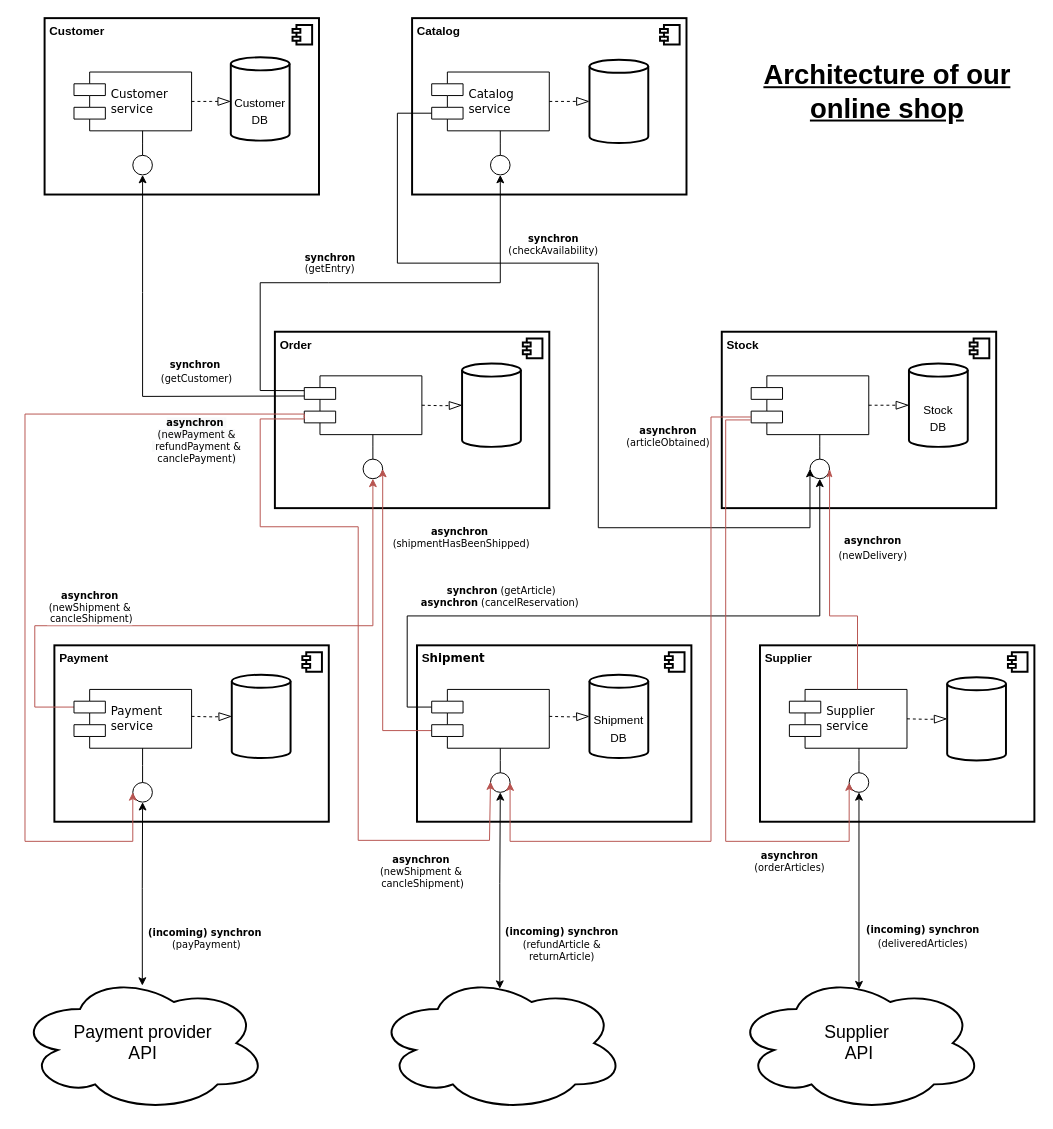
This 1053x1129 diagram has some shape labels left out. Each missing label, with the centre of its shape:
Article DB: point (618, 101)
Order DB: point (491, 404)
Order service: point (362, 405)
Payment DB: point (260, 716)
Shipment service: point (490, 718)
Shipping provider API: point (500, 1042)
Stock service: point (809, 405)
Supplier DB: point (976, 718)
